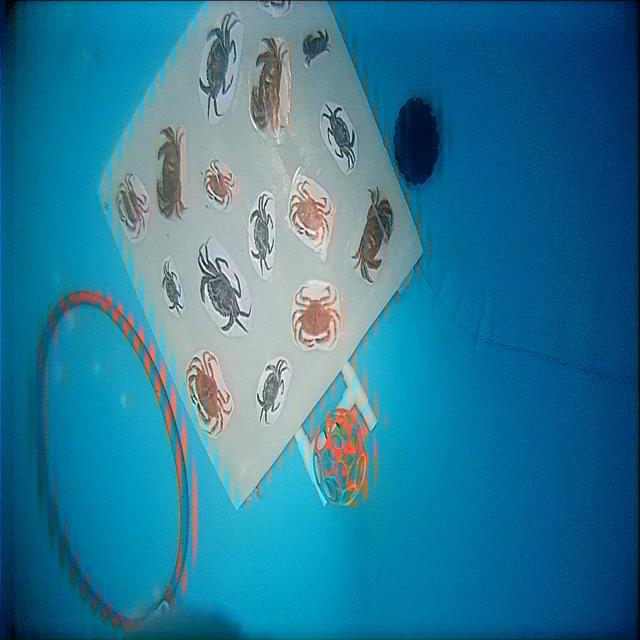GreenCrab: (198, 244, 251, 332), (199, 12, 238, 120), (322, 103, 355, 168), (250, 193, 274, 276), (257, 359, 288, 423)
